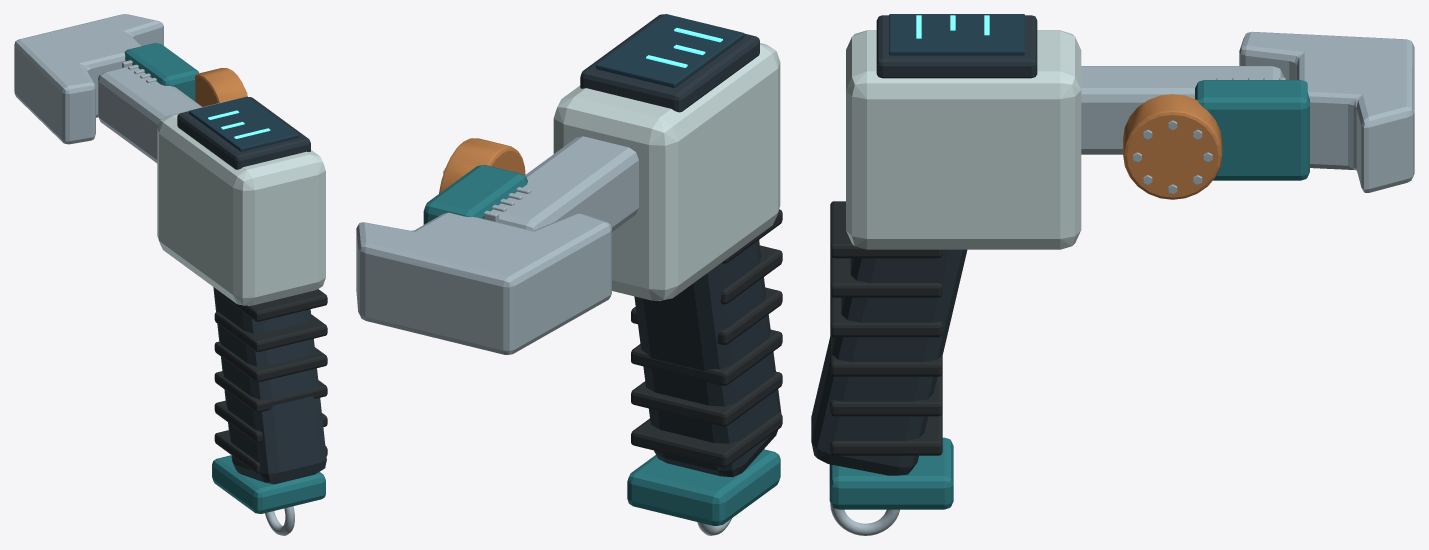
File: torque_wrench.glb
3 views of the same model, side by side, from view 1: azimuth 30°, elevation 25°; view 2: azimuth 150°, elevation 25°; view 3: azimuth 270°, elevation 25° (orthographic). The views are drawn at different scales.
Parts seen in each view (by area): view 1: torque_wrench_mesh, Jaw_slide_mesh; view 2: torque_wrench_mesh, Jaw_slide_mesh; view 3: torque_wrench_mesh, Jaw_slide_mesh.
Part boxes in pixels (<box>): torque_wrench_mesh: <box>14,14,327,535</box>; Jaw_slide_mesh: <box>122,43,198,101</box>; torque_wrench_mesh: <box>356,14,782,535</box>; Jaw_slide_mesh: <box>423,165,531,224</box>; torque_wrench_mesh: <box>811,14,1414,535</box>; Jaw_slide_mesh: <box>1195,77,1309,180</box>.
Size of the model in its own units: 0.1668 by 0.4268 by 0.4614.
